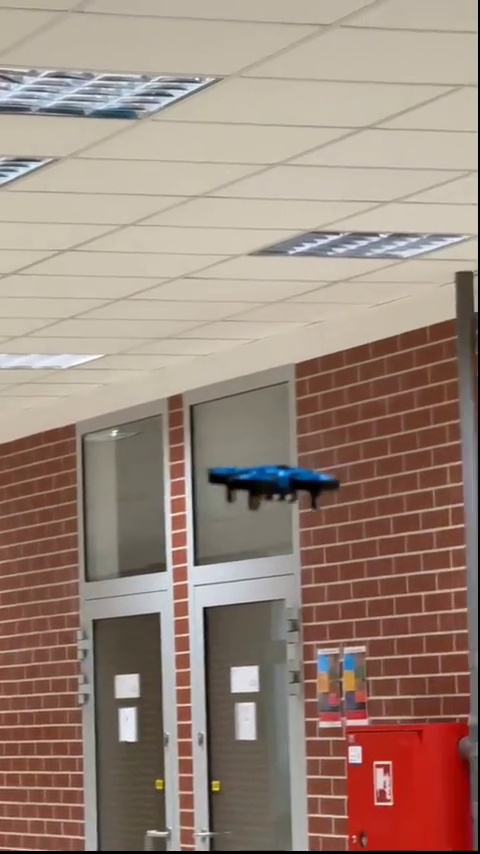drone: (204, 462, 345, 515)
